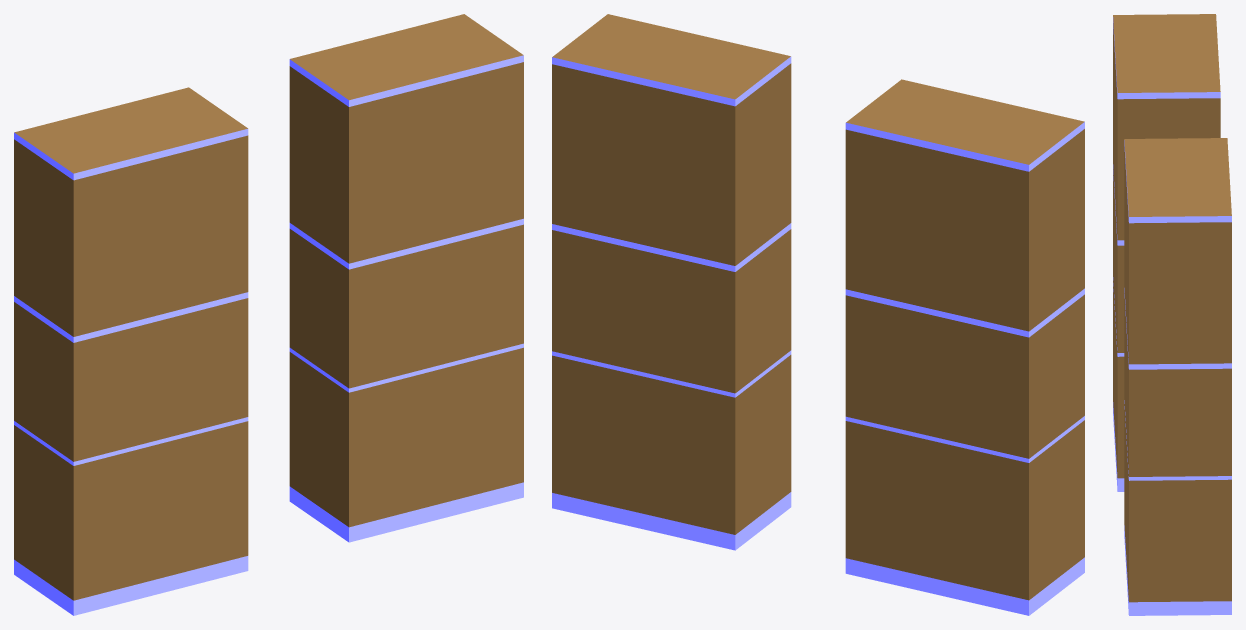
The model's file is hueco_carcel.glb.
The picture shows the model from 3 angles, left to right: view 1: azimuth 30°, elevation 25°; view 2: azimuth 150°, elevation 25°; view 3: azimuth 270°, elevation 25°; orthographic projection. The views are drawn at different scales.
Parts seen in each view (by area): view 1: wall_1_.001, wall_1_.004; view 2: wall_1_.001, wall_1_.004; view 3: wall_1_.001, wall_1_.004.
Part boxes in pixels (x1=…): wall_1_.001: x1=289, y1=14, x2=523, y2=542; wall_1_.004: x1=14, y1=87, x2=248, y2=615; wall_1_.001: x1=552, y1=14, x2=791, y2=550; wall_1_.004: x1=845, y1=79, x2=1084, y2=615; wall_1_.001: x1=1124, y1=138, x2=1231, y2=615; wall_1_.004: x1=1113, y1=14, x2=1220, y2=491.
Size of what is drawn, in the model's own units: 17.47 by 16 by 4.32.
